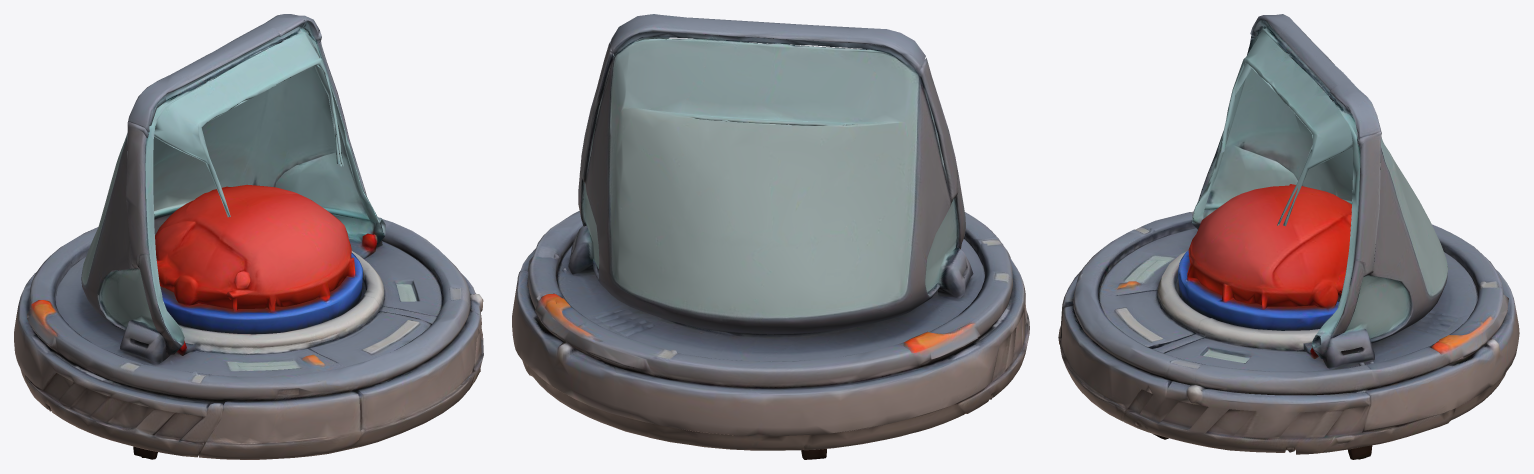
The model's file is all_or_nothing.glb.
3 renders of one model, left to right at view 1: azimuth 30°, elevation 25°; view 2: azimuth 150°, elevation 25°; view 3: azimuth 270°, elevation 25°, orthographic. The views are drawn at different scales.
Visible parts, largest first — view 1: tripo_node_54f5d89e-9d96-4b81-9783-8557b1d67374; view 2: tripo_node_54f5d89e-9d96-4b81-9783-8557b1d67374; view 3: tripo_node_54f5d89e-9d96-4b81-9783-8557b1d67374.
Boxes of the visible parts, x1,y1,x2,y2 form: tripo_node_54f5d89e-9d96-4b81-9783-8557b1d67374: (14,14,483,459); tripo_node_54f5d89e-9d96-4b81-9783-8557b1d67374: (512,14,1029,459); tripo_node_54f5d89e-9d96-4b81-9783-8557b1d67374: (1058,14,1519,459).
Bounding box in the file's own units: 0.9767 × 0.765 × 0.9803.
1 material, 1 textured.
